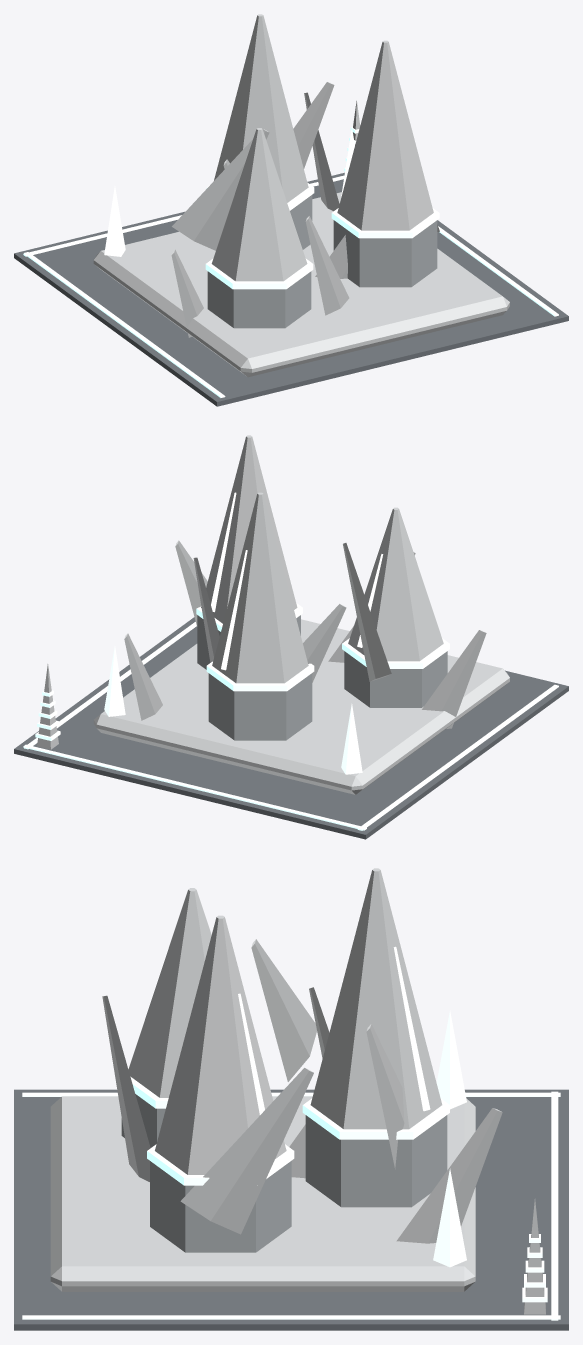
File: zone_low_1_t5.glb
3 renders of one model, top to bottom at view 1: azimuth 30°, elevation 25°; view 2: azimuth 150°, elevation 25°; view 3: azimuth 270°, elevation 25°, orthographic. The views are drawn at different scales.
Visible parts, largest first — view 1: zone_low_1_t5, detail; view 2: zone_low_1_t5, detail; view 3: zone_low_1_t5, detail.
Boxes of the visible parts, x1,y1,x2,y2 form: zone_low_1_t5: (14,14,568,406); detail: (23,100,558,397); zone_low_1_t5: (14,435,568,839); detail: (23,622,558,830); zone_low_1_t5: (14,868,568,1330); detail: (22,1091,560,1320).
Bounding box in the file's own units: 19.6 × 15.75 × 19.6.
